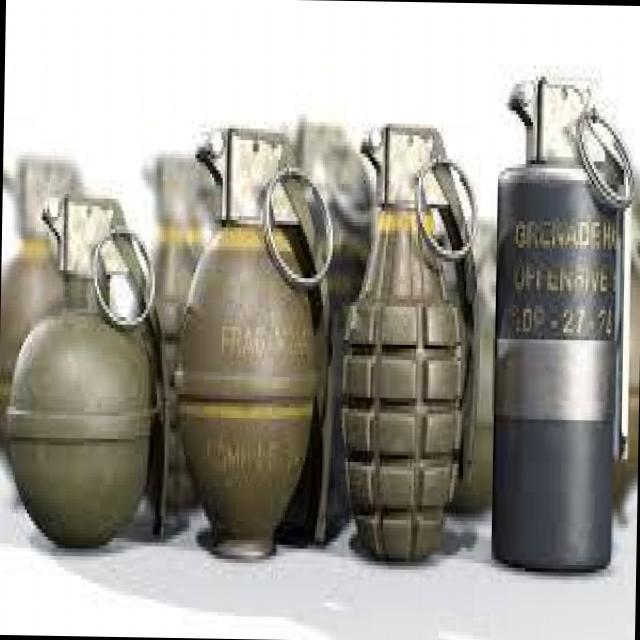grenade: (170, 118, 340, 566), (487, 73, 639, 574), (339, 107, 487, 532), (0, 183, 160, 548)
